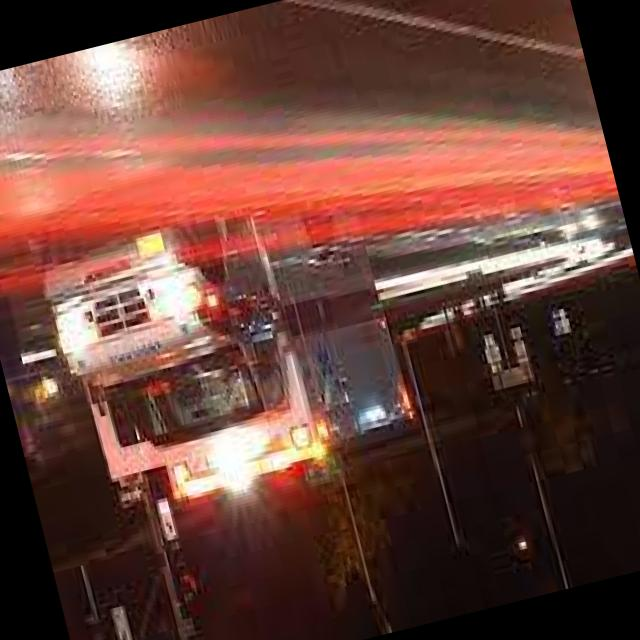ambulance: (44, 237, 335, 522)
